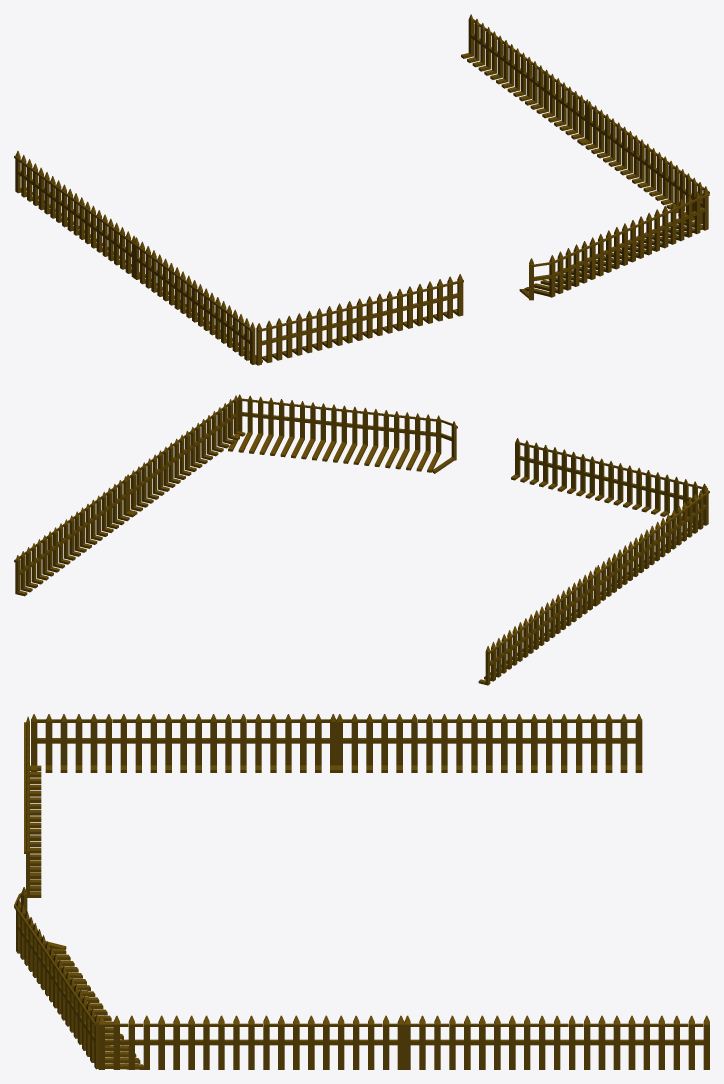
Rendered from Castle Wooden fences.fbx.
3 views of the same model, one above another, from view 1: azimuth 30°, elevation 25°; view 2: azimuth 150°, elevation 25°; view 3: azimuth 270°, elevation 25° (orthographic). The views are drawn at different scales.
Parts seen in each view (by area): view 1: Cube.123; view 2: Cube.123; view 3: Cube.123.
Boxes of the visible parts, box(x1,y1,x2,y2) form: Cube.123: box(14, 14, 709, 365); Cube.123: box(14, 394, 709, 685); Cube.123: box(14, 714, 709, 1069).
Bounding box in the file's own units: 4730 × 429 × 4560.
